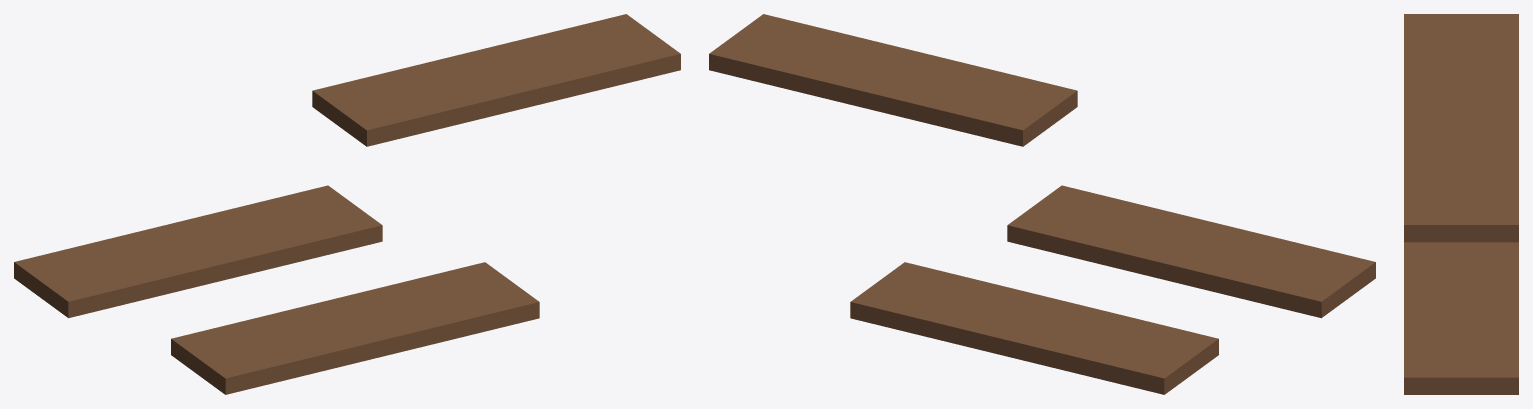
Rendered from Shelf1.fbx.
The picture shows the model from 3 angles, left to right: view 1: azimuth 30°, elevation 25°; view 2: azimuth 150°, elevation 25°; view 3: azimuth 270°, elevation 25°; orthographic projection. The views are drawn at different scales.
Parts seen in each view (by area): view 1: Cube.024; view 2: Cube.024; view 3: Cube.024.
Boxes of the visible parts, <box> form: Cube.024: <box>14,14,680,394</box>; Cube.024: <box>709,14,1375,394</box>; Cube.024: <box>1404,14,1518,394</box>.
Bounding box in the file's own units: 390 × 140 × 60.
